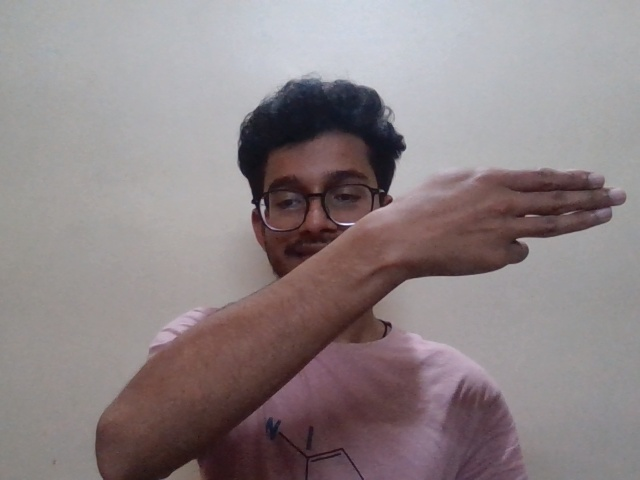wednesday: (355, 158, 623, 282)
